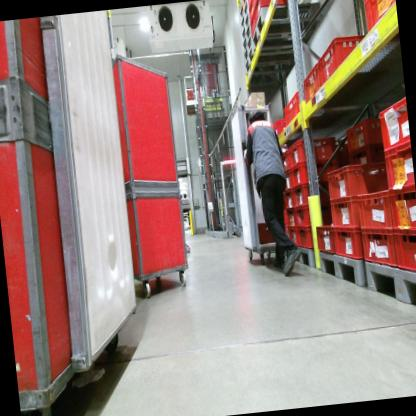pallet: (249, 0, 321, 53), (365, 256, 416, 317), (315, 242, 368, 299), (242, 39, 309, 75), (288, 243, 315, 272), (237, 9, 251, 38), (241, 35, 254, 65), (239, 21, 252, 49), (238, 0, 250, 26), (237, 0, 248, 16)
small_load_carrier: (315, 30, 375, 95), (324, 157, 390, 203), (377, 93, 410, 153), (353, 188, 393, 236), (358, 221, 396, 270), (383, 137, 415, 193), (288, 158, 342, 190), (327, 189, 363, 235), (288, 137, 340, 168), (387, 181, 416, 236), (346, 113, 385, 153), (391, 225, 416, 280), (332, 220, 364, 262), (346, 140, 388, 171), (293, 201, 333, 231), (361, 0, 398, 32), (252, 217, 283, 251), (292, 183, 332, 209), (281, 89, 306, 129), (255, 0, 295, 23), (302, 62, 323, 104), (314, 223, 337, 258), (297, 224, 319, 252), (271, 117, 287, 140), (279, 150, 292, 174), (280, 168, 292, 194), (281, 186, 295, 208), (285, 205, 297, 228), (287, 224, 299, 246), (247, 14, 259, 34), (282, 222, 290, 245), (280, 207, 288, 228), (248, 0, 256, 20), (244, 0, 255, 13)
